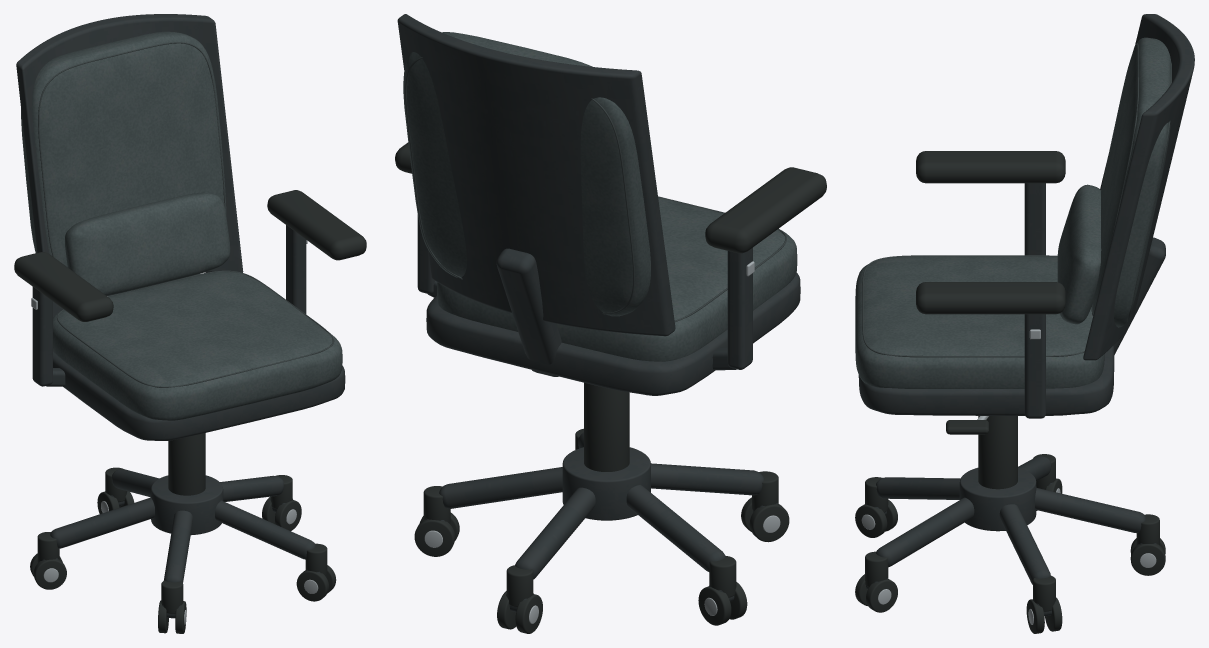
Rendered from office_chair.glb.
The picture shows the model from 3 angles, left to right: view 1: azimuth 30°, elevation 25°; view 2: azimuth 150°, elevation 25°; view 3: azimuth 270°, elevation 25°; orthographic projection. The views are drawn at different scales.
Parts seen in each view (by area): view 1: Back | contoured upholstered pad, Arm | height-adjustable post, Arm | padded top, Back | contoured upholstered pad | lower tailored welt, Arm | adjustment button; view 2: Arm | height-adjustable post, Back | contoured upholstered pad, Arm | padded top, Back | contoured upholstered pad | lower tailored welt, Arm | adjustment button; view 3: Back | contoured upholstered pad, Arm | height-adjustable post, Arm | padded top, Back | contoured upholstered pad | lower tailored welt, Arm | adjustment button.
Boxes of the visible parts, <box> form: Back | contoured upholstered pad: <box>21,31,342,420</box>; Arm | height-adjustable post: <box>16,14,345,618</box>; Arm | padded top: <box>14,190,366,633</box>; Back | contoured upholstered pad | lower tailored welt: <box>38,42,334,387</box>; Arm | adjustment button: <box>31,240,318,624</box>; Arm | height-adjustable post: <box>397,14,800,611</box>; Back | contoured upholstered pad: <box>403,32,797,361</box>; Arm | padded top: <box>395,142,826,633</box>; Back | contoured upholstered pad | lower tailored welt: <box>405,57,786,321</box>; Arm | adjustment button: <box>424,261,780,623</box>; Back | contoured upholstered pad: <box>855,37,1171,388</box>; Arm | height-adjustable post: <box>858,14,1194,616</box>; Arm | padded top: <box>855,151,1165,633</box>; Back | contoured upholstered pad | lower tailored welt: <box>862,43,1171,357</box>; Arm | adjustment button: <box>861,329,1156,624</box>.
Size of the model in its own units: 0.731 by 1.17 by 0.7015.
5 materials, 2 textured.
